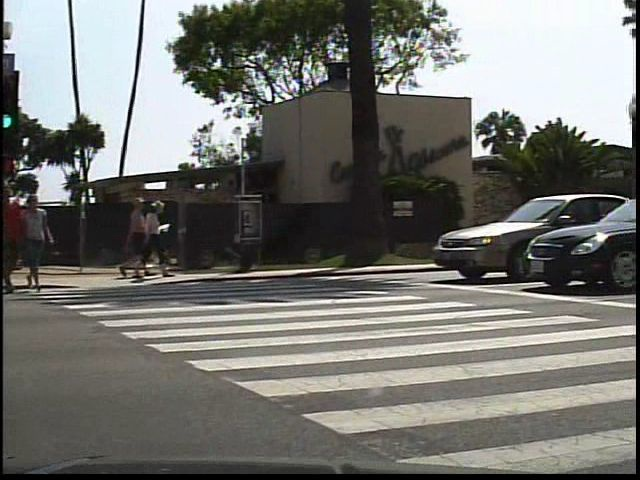person: (28, 195, 66, 295)
